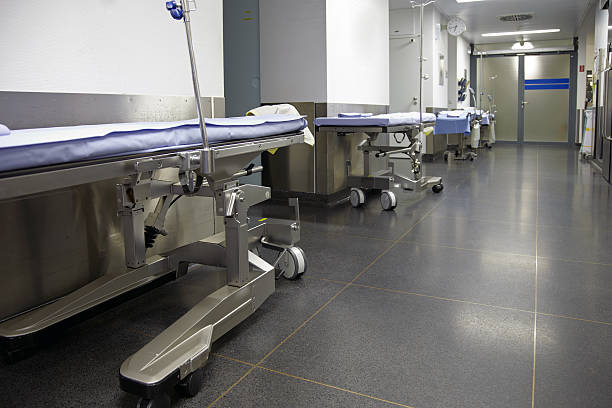door_handle: (519, 100, 531, 110)
hospital_bed: (1, 94, 316, 408), (314, 113, 444, 211)
iv_pole: (161, 1, 214, 154), (406, 1, 438, 126)
